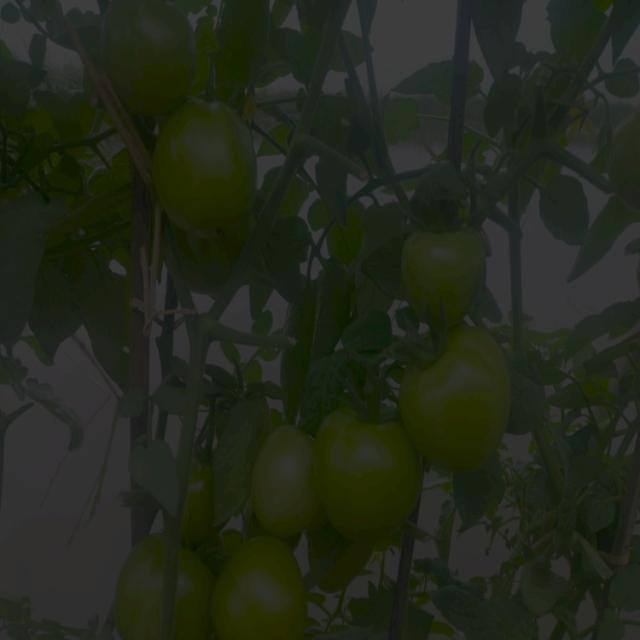tomato: (402, 333, 516, 468), (324, 401, 434, 534), (155, 104, 259, 234), (98, 1, 208, 115), (400, 217, 501, 339), (211, 529, 311, 640), (117, 529, 207, 640), (257, 413, 327, 532), (608, 115, 640, 201), (189, 452, 201, 524)
